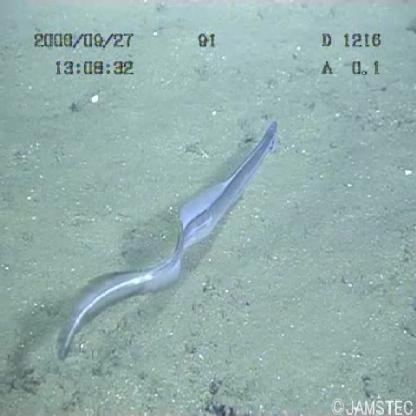Bio: (56, 115, 282, 358)
